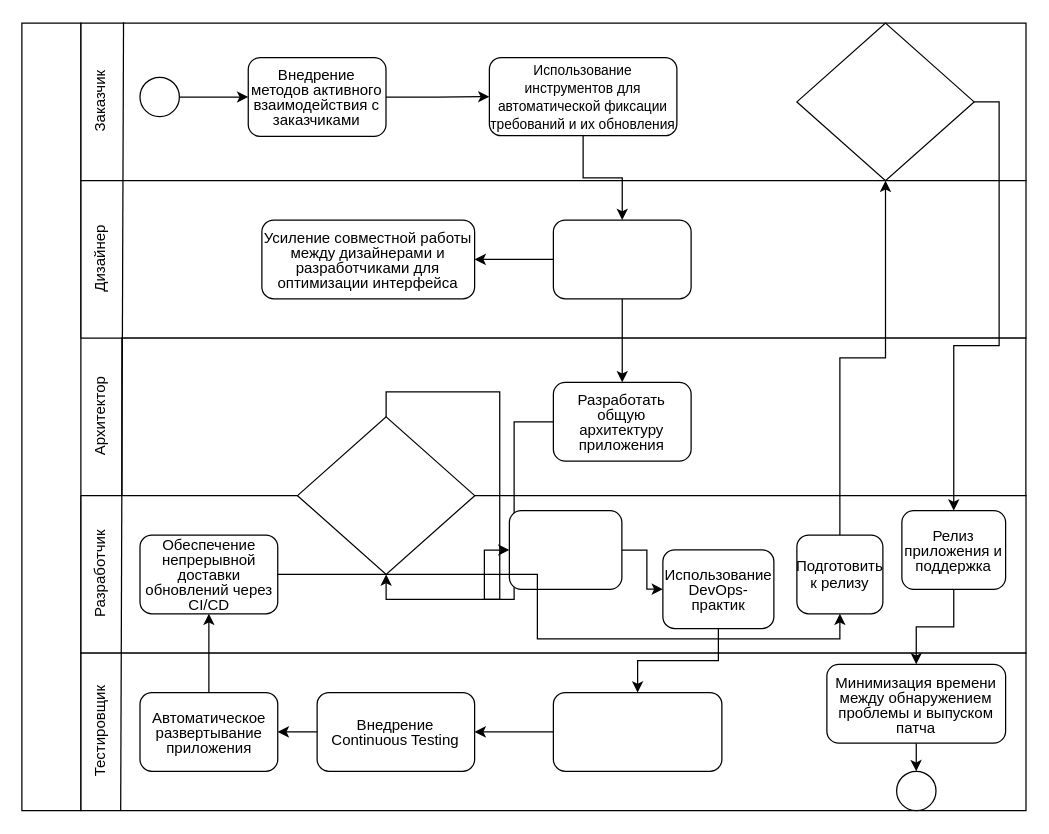
Image size: 1049x834. Some labels were removed from this diagram. The box of each missing label's shape, as (x1, y1, x2, y2) in pixels:
Внедрение методологии дизайна Thinking Design: (552, 219, 691, 299)
Какие технологии и фреймворки использовать?: (296, 416, 475, 574)
Применение Agile-подхода: (508, 509, 622, 589)
Развитие набора автоматизированных тестов: (552, 691, 722, 771)
Разработка Android-приложения: (21, 22, 81, 811)
Соответствует требованиям?: (796, 22, 974, 181)
